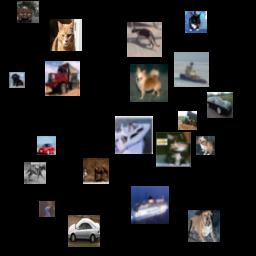automobile: (68, 215, 100, 247), (207, 92, 233, 118), (37, 136, 56, 155)
bird: (39, 201, 55, 217)
cat: (127, 22, 162, 57), (156, 132, 191, 167), (50, 19, 82, 51), (185, 11, 207, 33)
dog: (130, 64, 168, 102), (188, 210, 220, 242), (196, 136, 215, 155), (9, 72, 25, 88)
ship: (115, 116, 153, 154), (131, 186, 169, 224), (174, 52, 209, 87)
truck: (45, 61, 80, 96), (17, 1, 39, 23), (178, 111, 197, 130)
